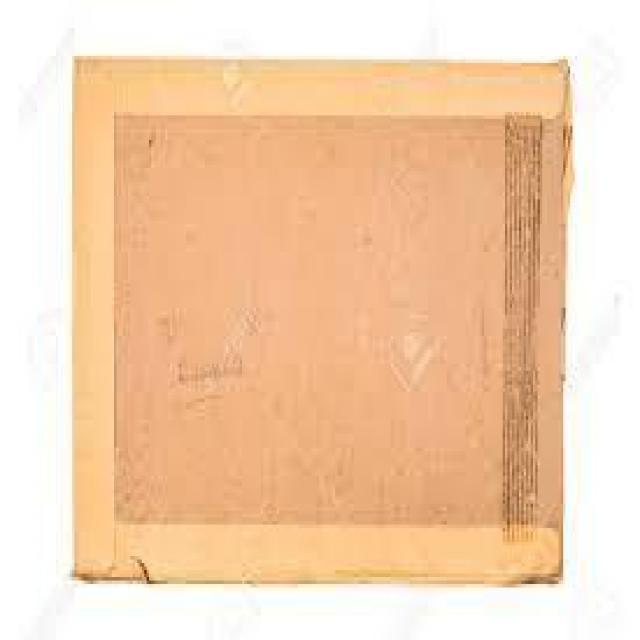box: (70, 56, 575, 587)
